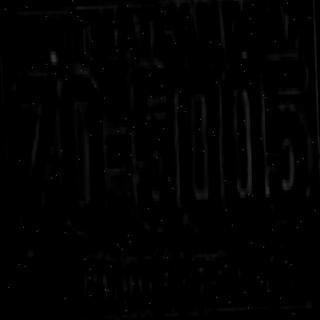N00: (175, 66, 220, 221), (220, 60, 262, 217), (60, 75, 103, 226)
N05: (132, 66, 176, 224), (263, 56, 305, 214)
N07: (17, 75, 59, 230)
P25: (76, 240, 257, 314)
